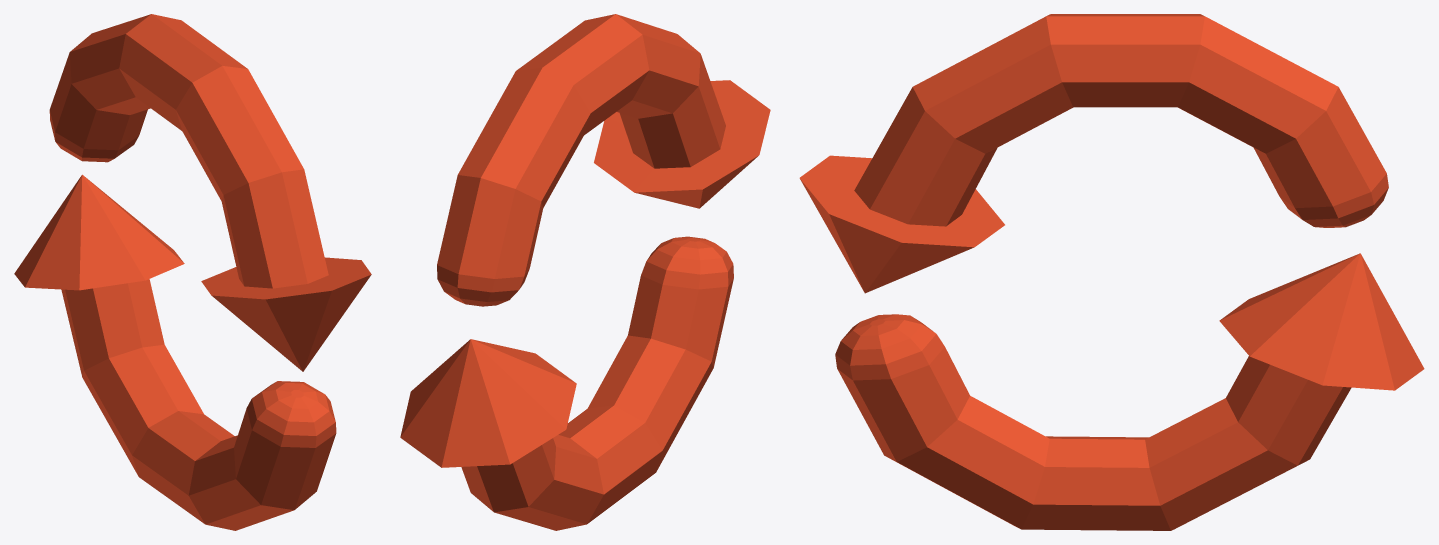
File: crear.fbx
3 renders of one model, left to right at view 1: azimuth 30°, elevation 25°; view 2: azimuth 150°, elevation 25°; view 3: azimuth 270°, elevation 25°, orthographic. The views are drawn at different scales.
Parts seen in each view (by area): view 1: crear; view 2: crear; view 3: crear.
Part boxes in pixels (bbox=[...]): crear: bbox=[14, 14, 371, 530]; crear: bbox=[400, 14, 770, 530]; crear: bbox=[799, 14, 1424, 530].
Bounding box in the file's own units: 203 × 592 × 654.
